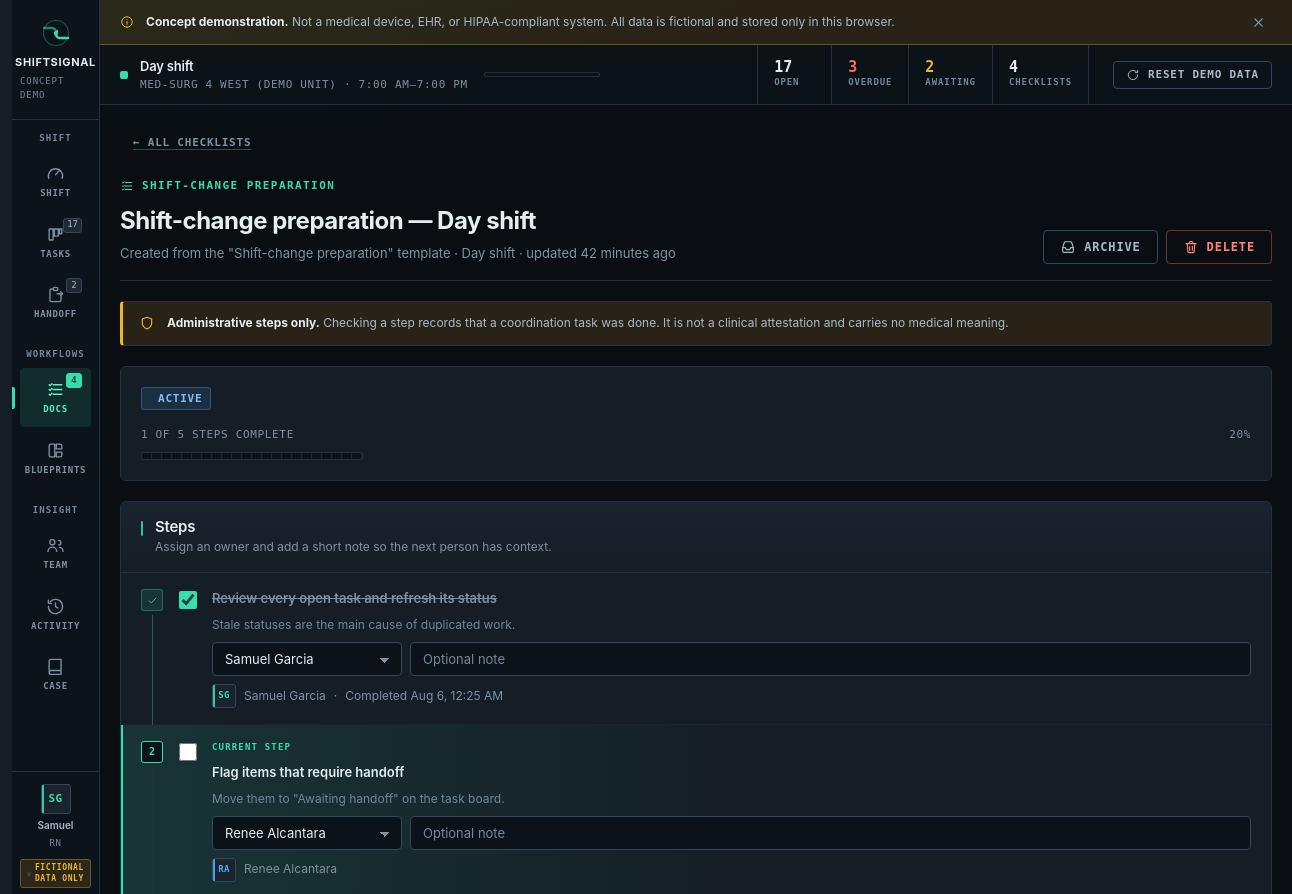
Test: Checklist workflows › archives a checklist and makes its steps read-only
This screenshot has width=1292, height=894.
What coordinates should you click on to do the following:
click the button "Archive"
I would click on:
 (1100, 247)
Its box is x1=1043 y1=230 x2=1158 y2=264.
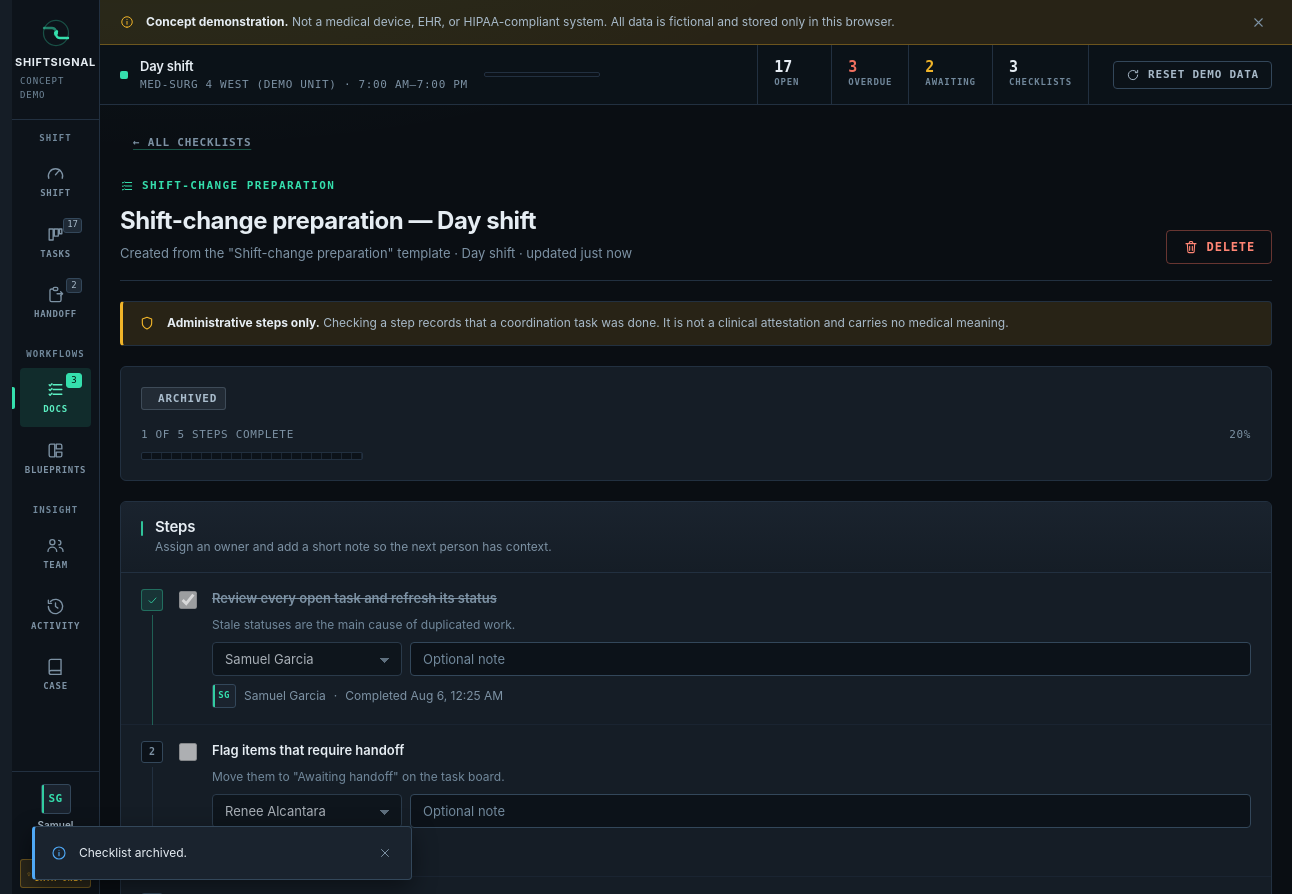
Expected: the checkbox labelled "Review every open task and refresh its status" is disabled, x1=179 y1=591 x2=197 y2=609
